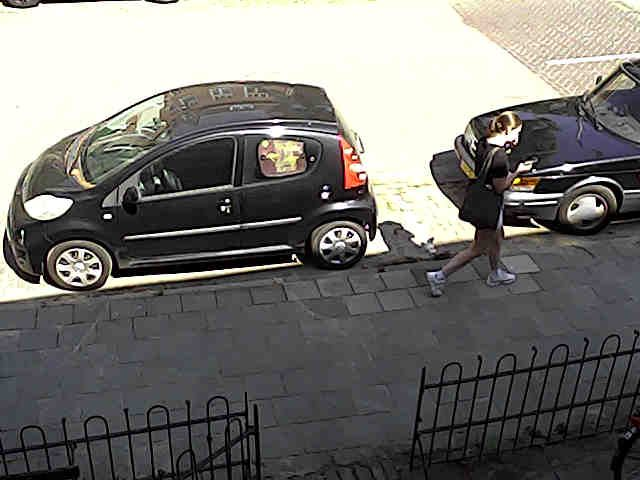male: (426, 205, 515, 295)
suv: (3, 82, 376, 289), (500, 61, 639, 233), (1, 0, 40, 7)
